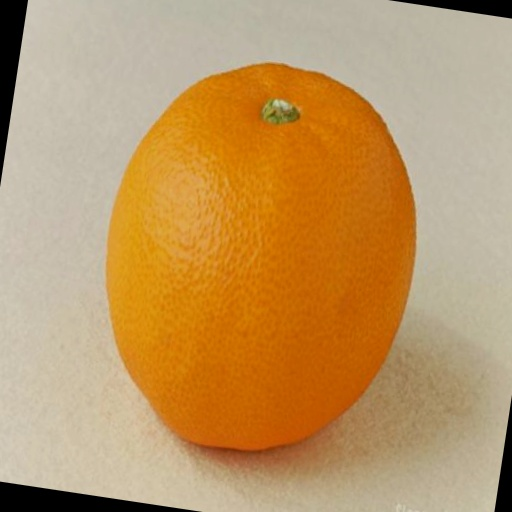fruit: (106, 63, 415, 449)
